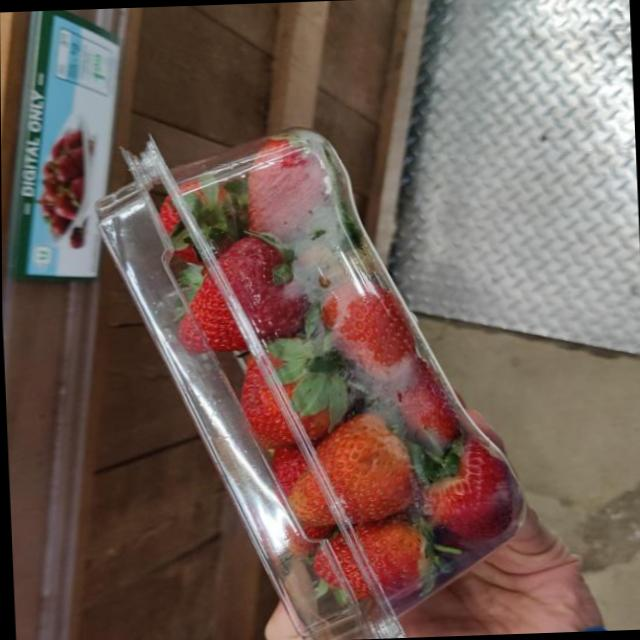Strawberries: (84, 126, 519, 640)
